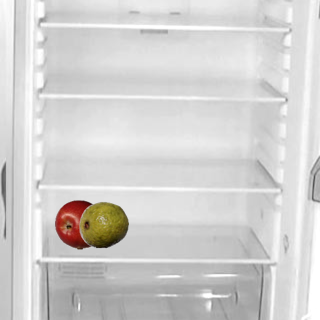Apple Braeburn: (54, 199, 104, 249)
Guava: (78, 199, 128, 249)
